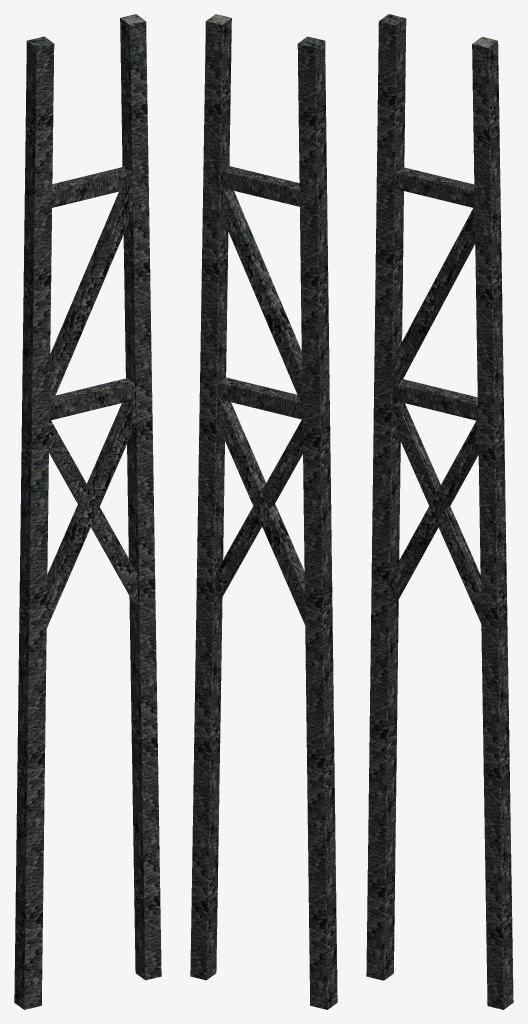
Rendered from RBRG03X.glb.
The picture shows the model from 3 angles, left to right: view 1: azimuth 30°, elevation 25°; view 2: azimuth 150°, elevation 25°; view 3: azimuth 330°, elevation 25°; orthographic projection.
Visible parts, largest first — view 1: _RBRG03X; view 2: _RBRG03X; view 3: _RBRG03X.
Part boxes in pixels (x1,y1,x2,y2): _RBRG03X: (14,14,161,1009); _RBRG03X: (190,14,337,1009); _RBRG03X: (366,14,513,1009).
Size of the model in its own units: 5.76 by 38.43 by 0.7208.
1 material, 1 textured.
